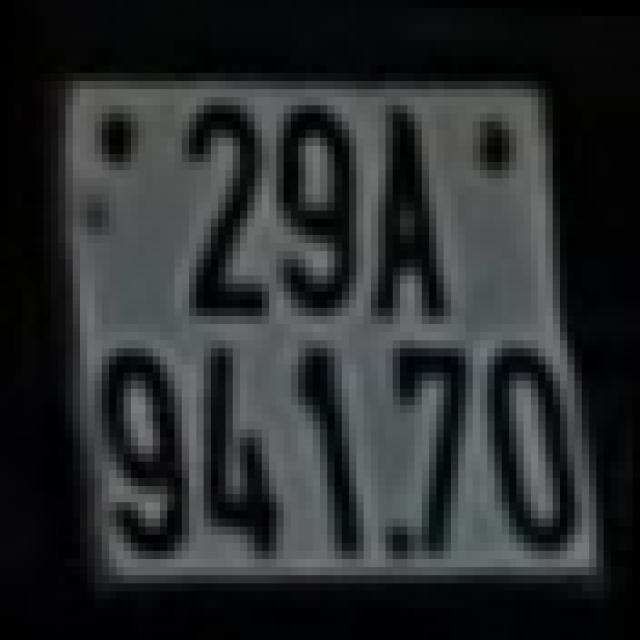0: (491, 340, 578, 551)
1: (298, 348, 371, 559)
2: (182, 97, 269, 316)
4: (196, 344, 284, 563)
7: (389, 344, 469, 555)
9: (98, 340, 193, 559), (276, 101, 356, 312)
A: (371, 101, 451, 320)
